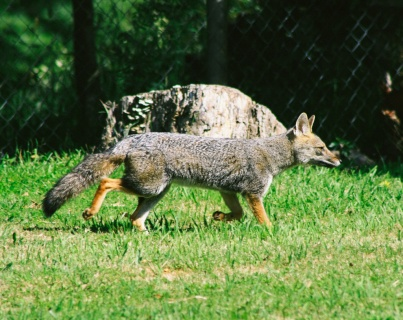Fox: (38, 111, 342, 236)
